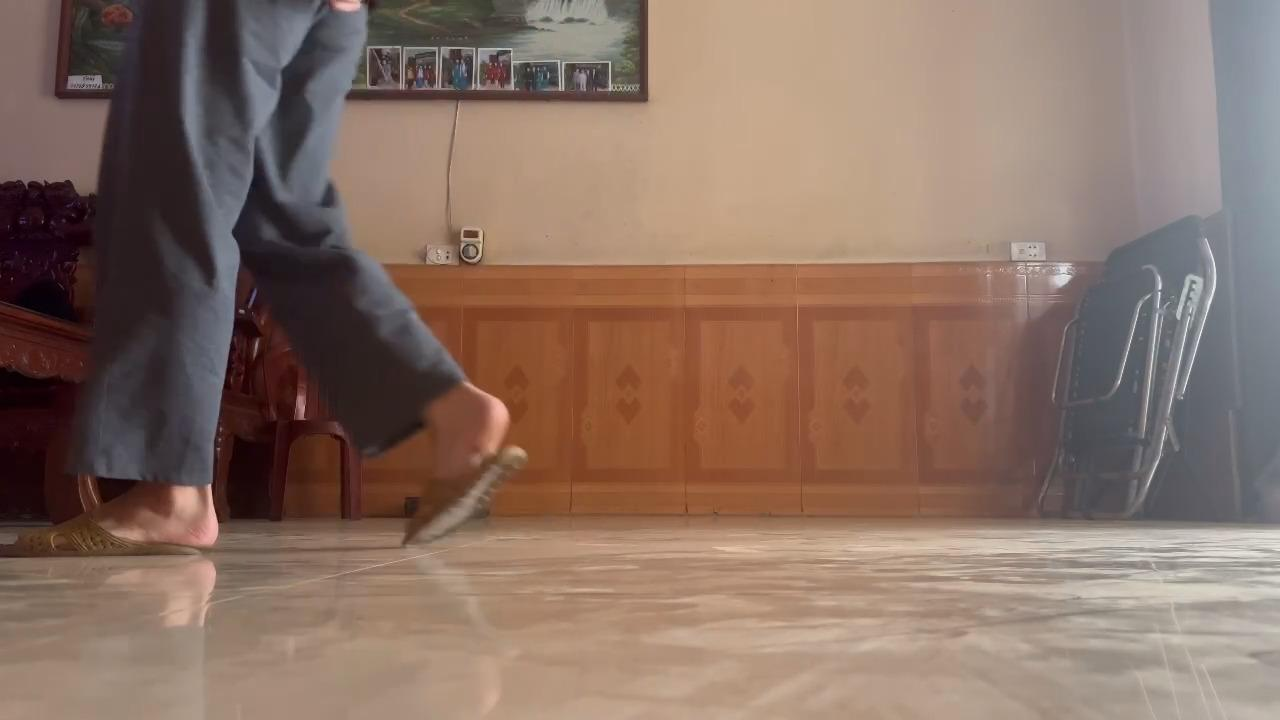no-boot: (376, 383, 542, 552), (0, 490, 226, 567)
